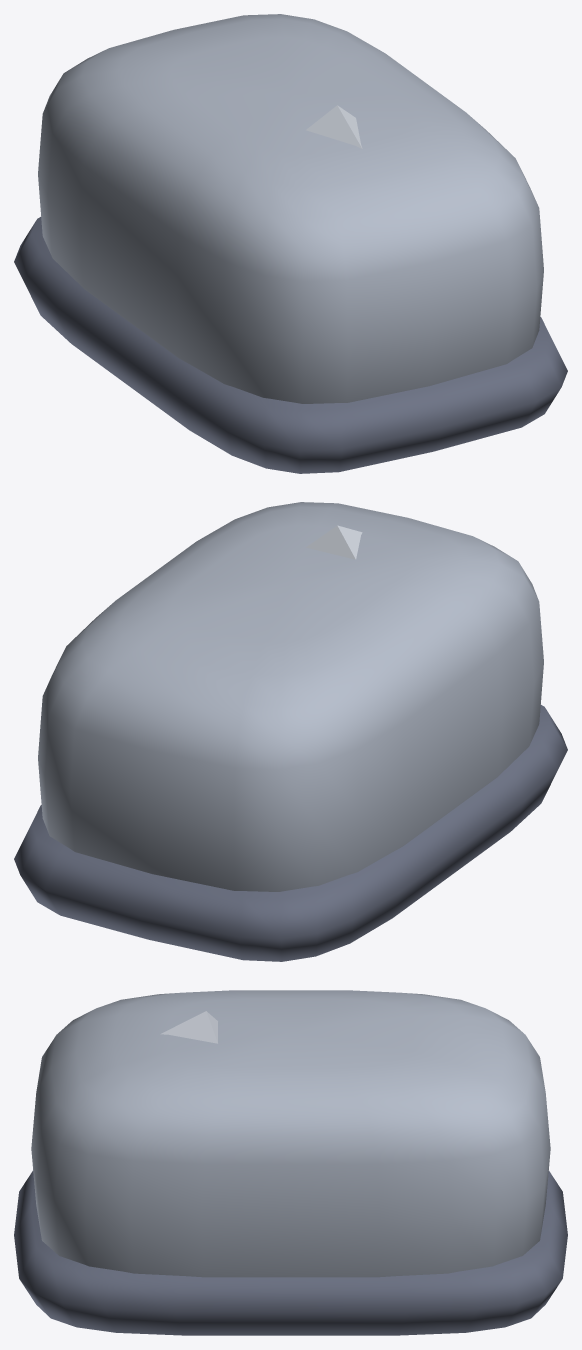
File: knight_foot.obj
3 views of the same model, one above another, from view 1: azimuth 30°, elevation 25°; view 2: azimuth 150°, elevation 25°; view 3: azimuth 270°, elevation 25° (orthographic). The views are drawn at different scales.
Visible parts, largest first — view 1: player_foot; view 2: player_foot; view 3: player_foot.
Boxes of the visible parts, x1,y1,x2,y2 form: player_foot: (14, 14, 567, 473); player_foot: (14, 502, 567, 961); player_foot: (14, 990, 567, 1335).
Size of the model in its own units: 0.209 by 0.1679 by 0.32.
Materials: 1 (1 with a texture image).
